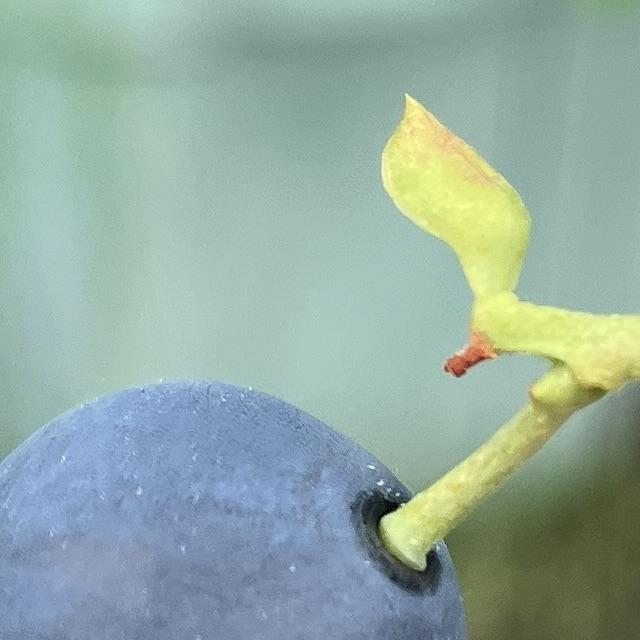Blueberries: (0, 373, 471, 640)
